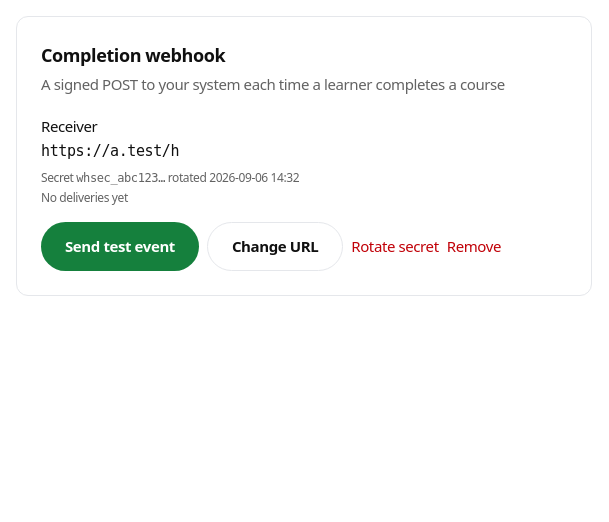
Scenario: TenantWebhookCard › rotates through a two-step control and shows the new secret once
Click the button "Rotate secret" at (395, 246), box [351,222,439,271]
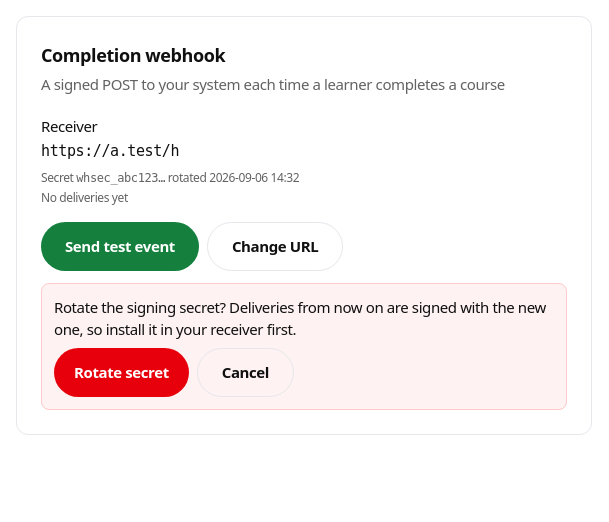
Click the button "Rotate secret" at (121, 373), box [54,348,189,397]
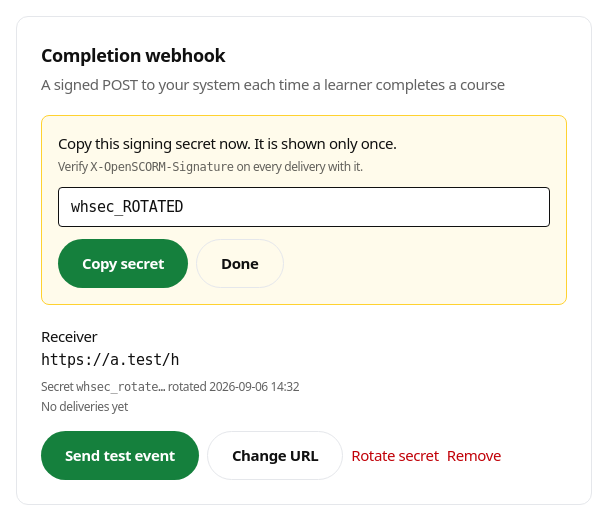
Check: the text with test id "webhook-secret" reads "whsec_ROTATED", box [71,198,183,216]
